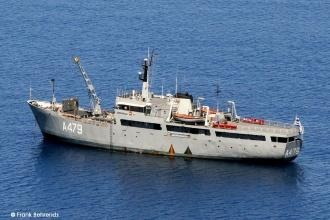warship: (26, 43, 305, 163)
